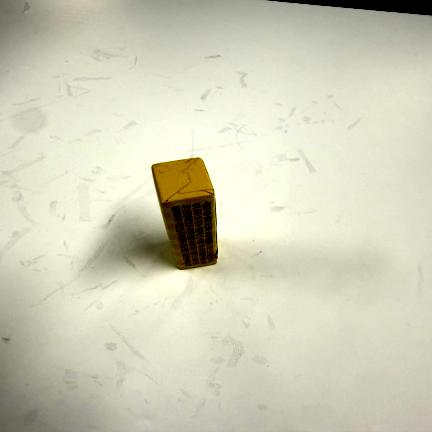gum_yellow: (152, 157, 217, 267)
